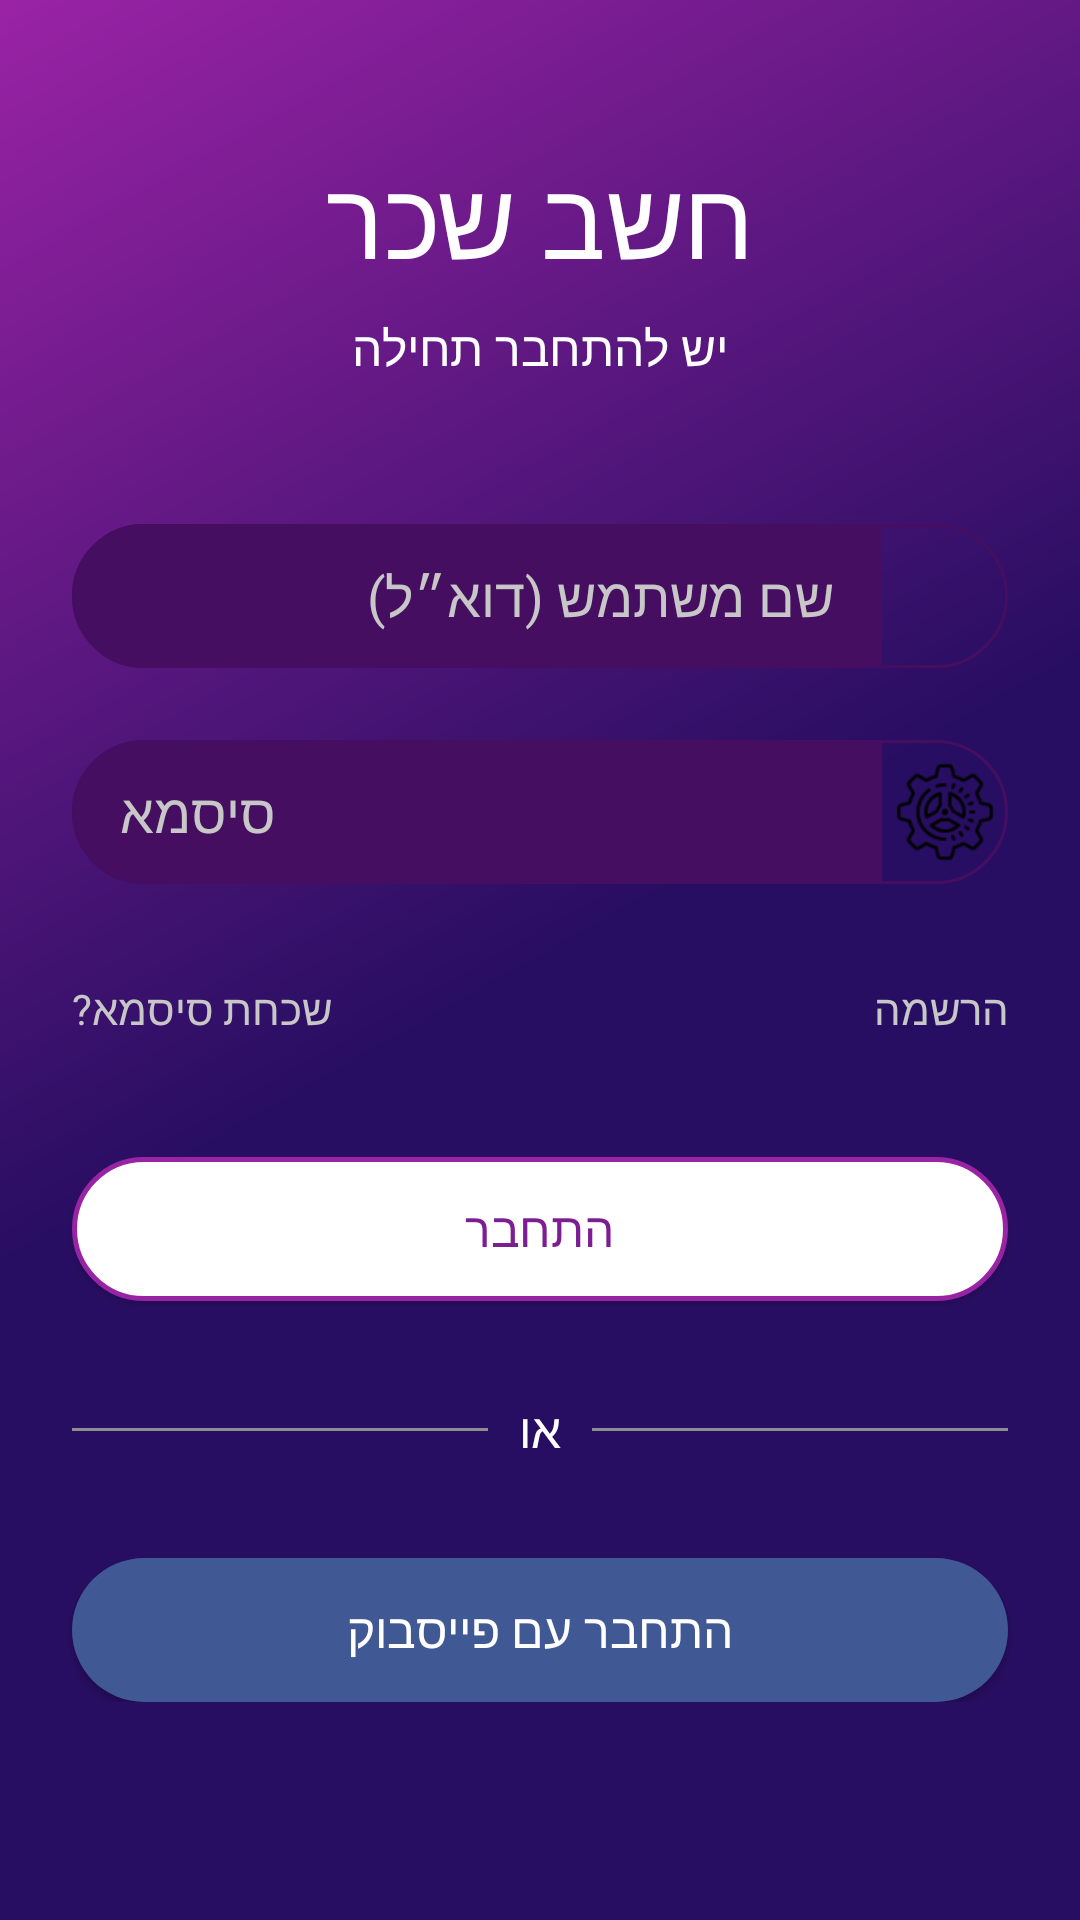

Point at icon controls on the screen. Image size 1080px×1920px, points as (x,y).
settings: (945,812)
